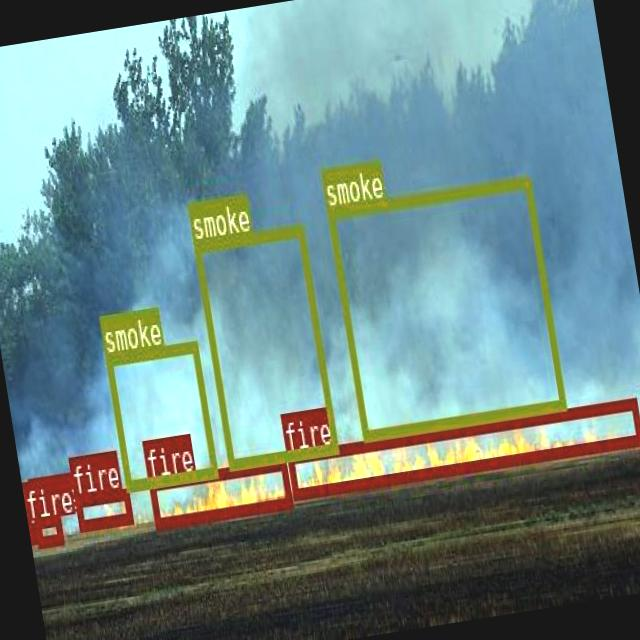fire: (286, 397, 640, 497), (148, 458, 292, 528), (74, 486, 132, 530), (33, 514, 63, 546), (28, 521, 34, 541)
smoke: (326, 176, 564, 440), (192, 224, 338, 468), (105, 340, 218, 490)
